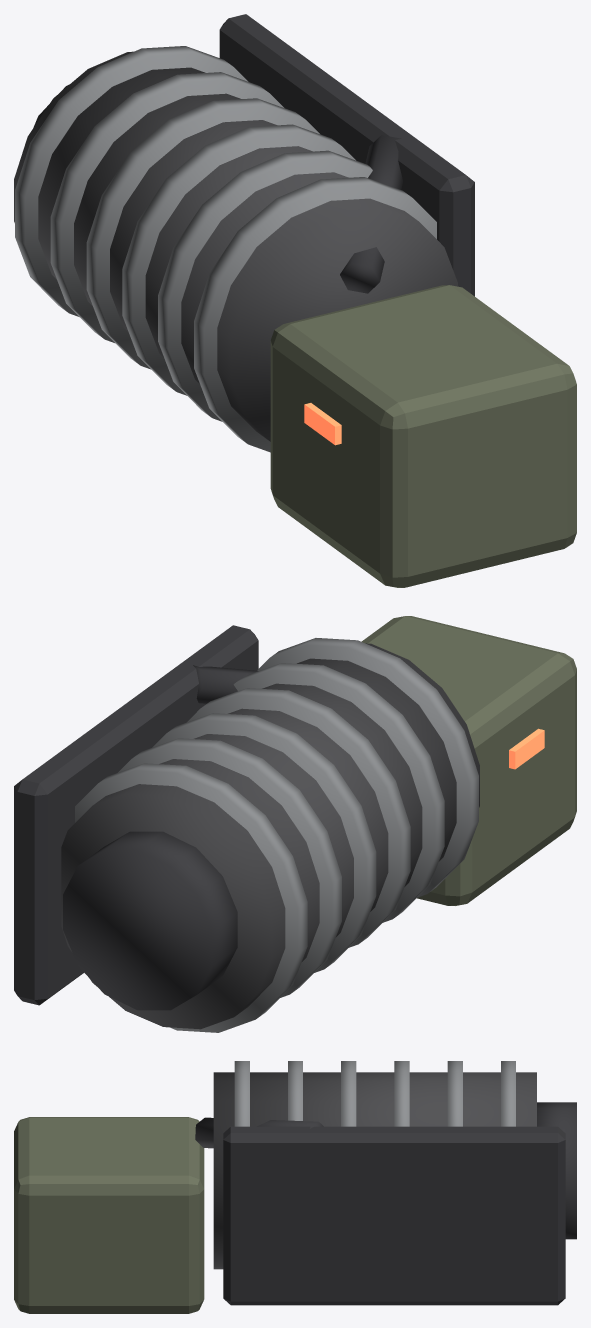
Rendered from part_motor.glb.
3 views of the same model, one above another, from view 1: azimuth 30°, elevation 25°; view 2: azimuth 150°, elevation 25°; view 3: azimuth 270°, elevation 25° (orthographic). The views are drawn at different scales.
Visible parts, largest first — view 1: Motor; view 2: Motor; view 3: Motor.
Part boxes in pixels (x1=…): Motor: x1=14, y1=14, x2=576, y2=587; Motor: x1=14, y1=616, x2=576, y2=1032; Motor: x1=14, y1=1061, x2=576, y2=1313.
Size of the model in its own units: 0.0606 by 0.061 by 0.148.
